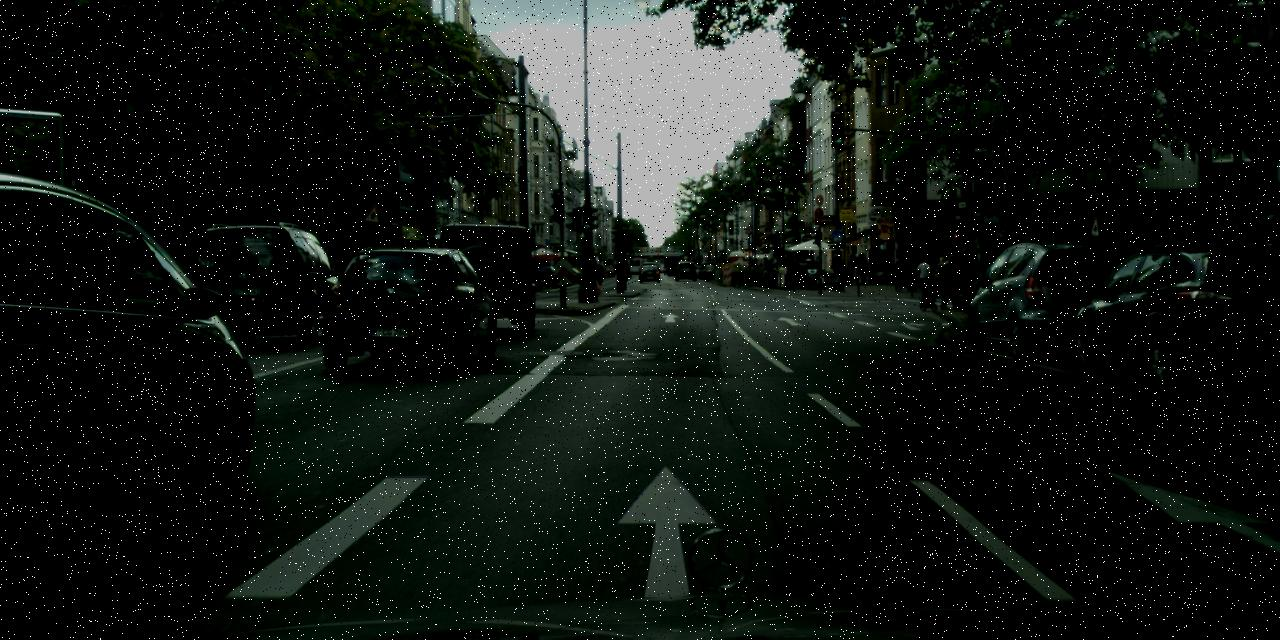ped: (1248, 214, 1279, 320), (1219, 230, 1252, 312), (936, 254, 958, 308), (583, 250, 603, 298), (936, 256, 950, 293), (617, 256, 631, 292), (917, 259, 931, 294), (904, 256, 918, 290), (891, 258, 904, 290), (855, 252, 867, 282)
